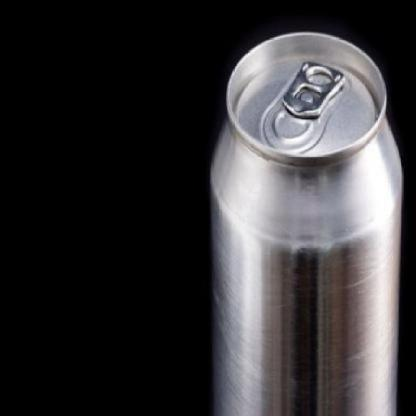Can: (206, 3, 416, 415)
